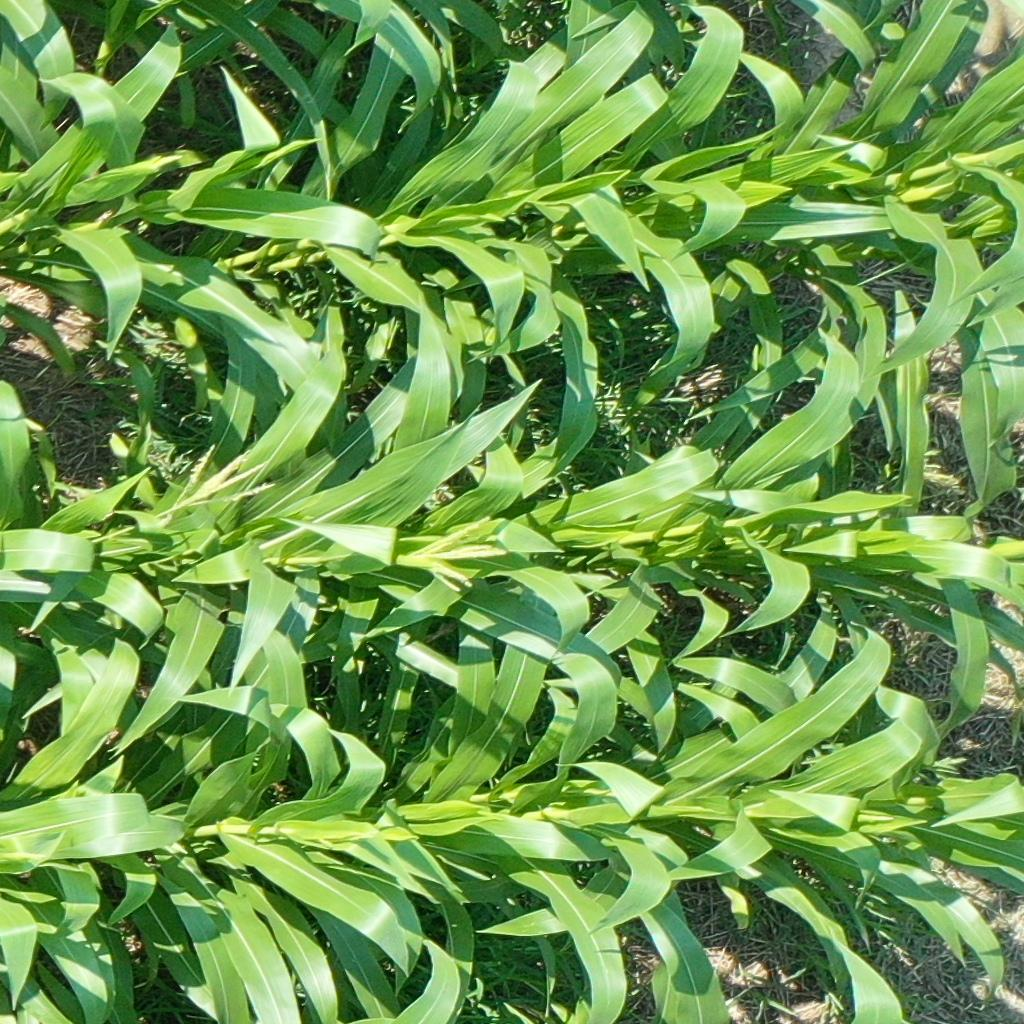Tassel: (403, 508, 513, 600), (166, 442, 282, 520)
